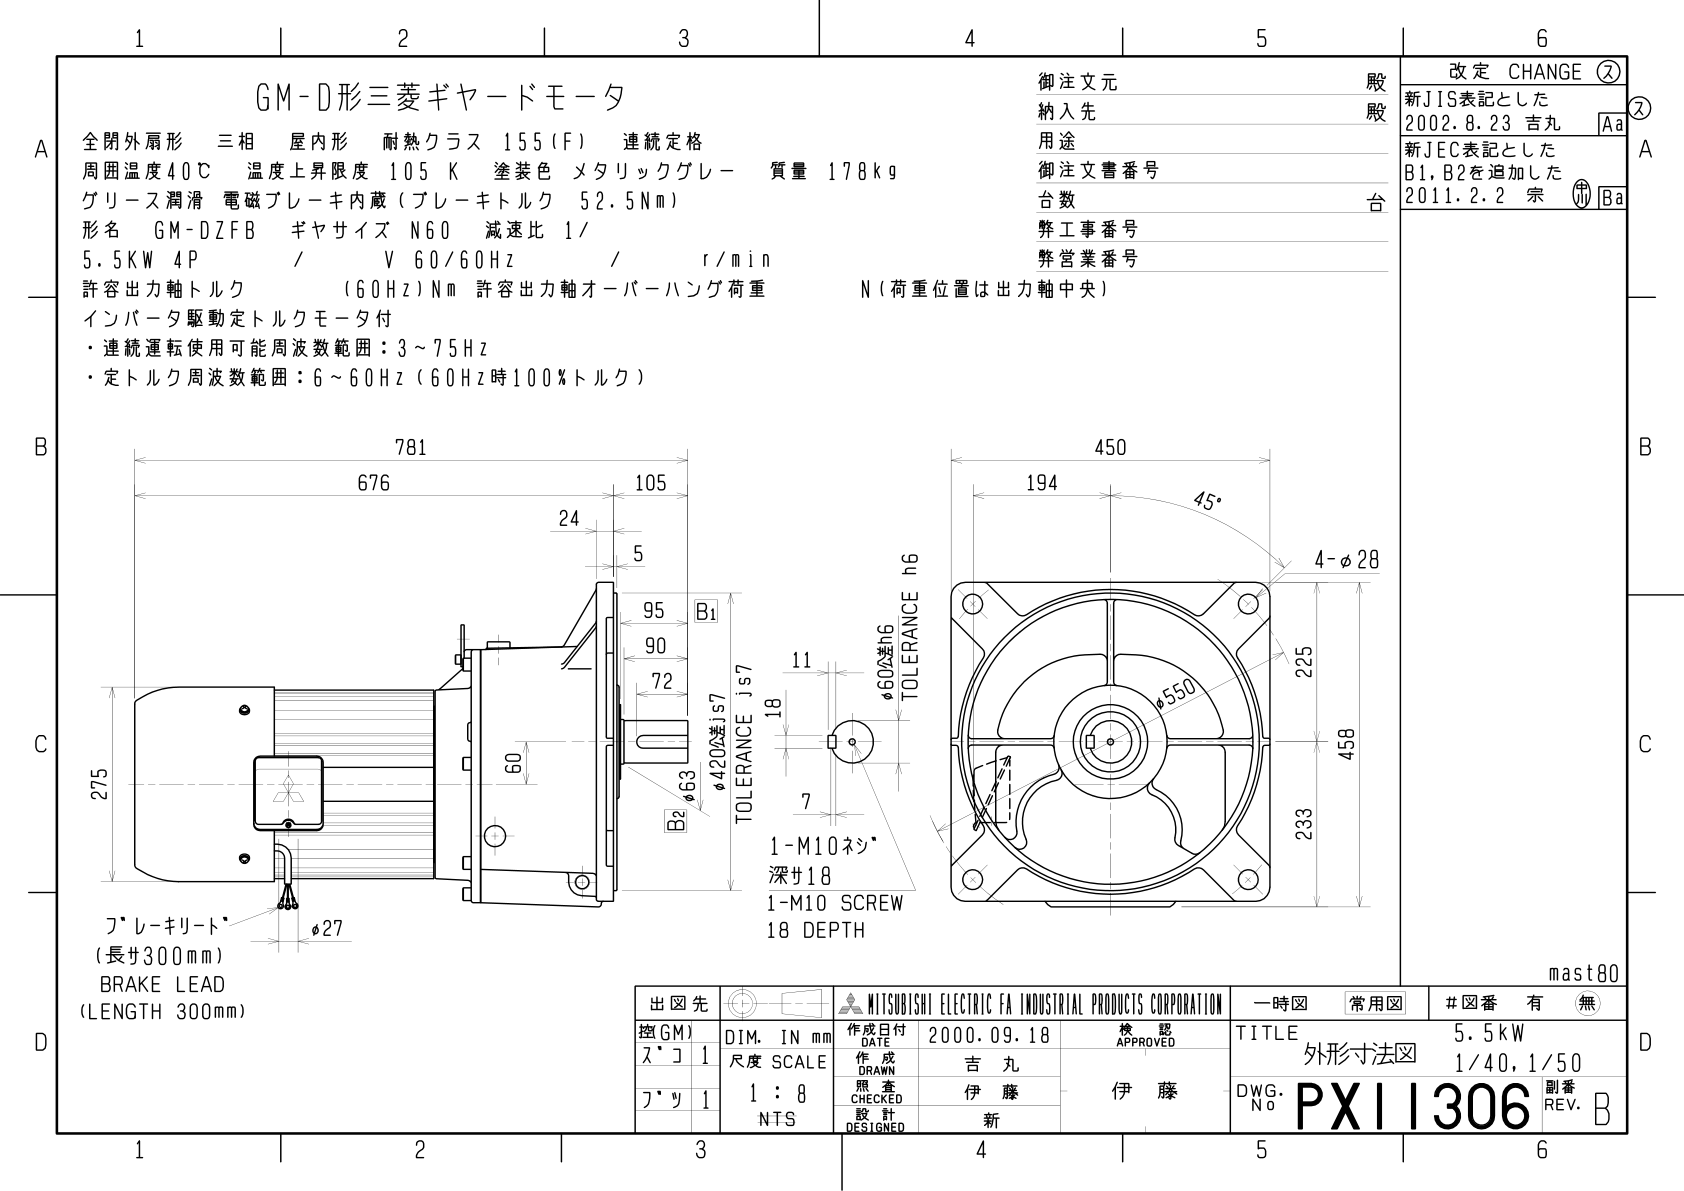GM_D_インバータ屋内_三相_フランジ: (10, 9, 1684, 1191)
